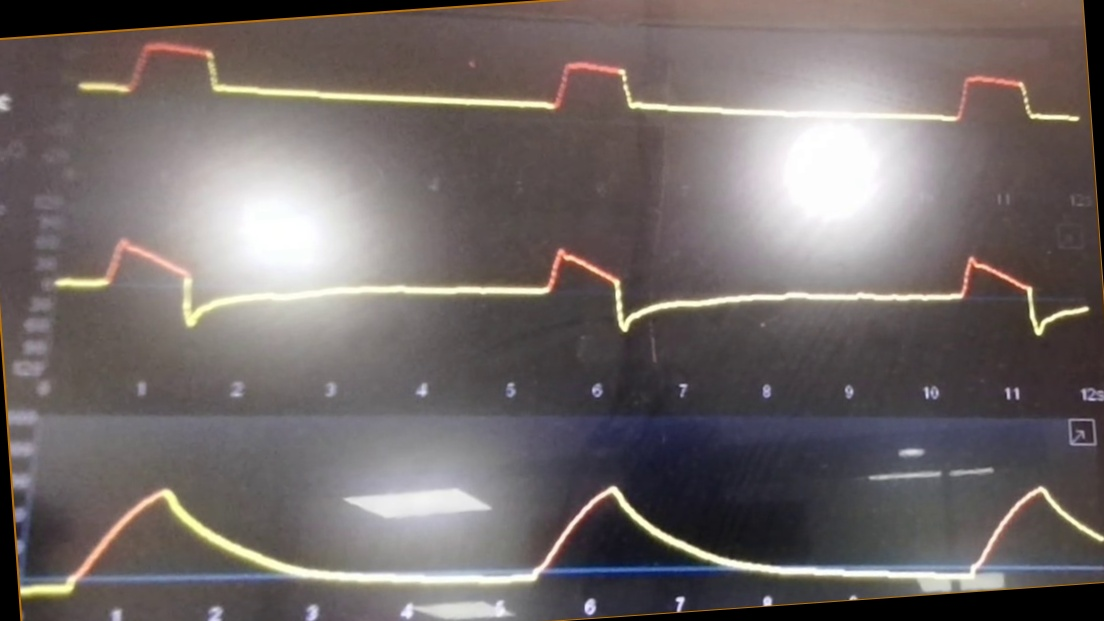Normal Flow: (56, 218, 1098, 357)
Normal Volume: (23, 436, 1104, 599)
